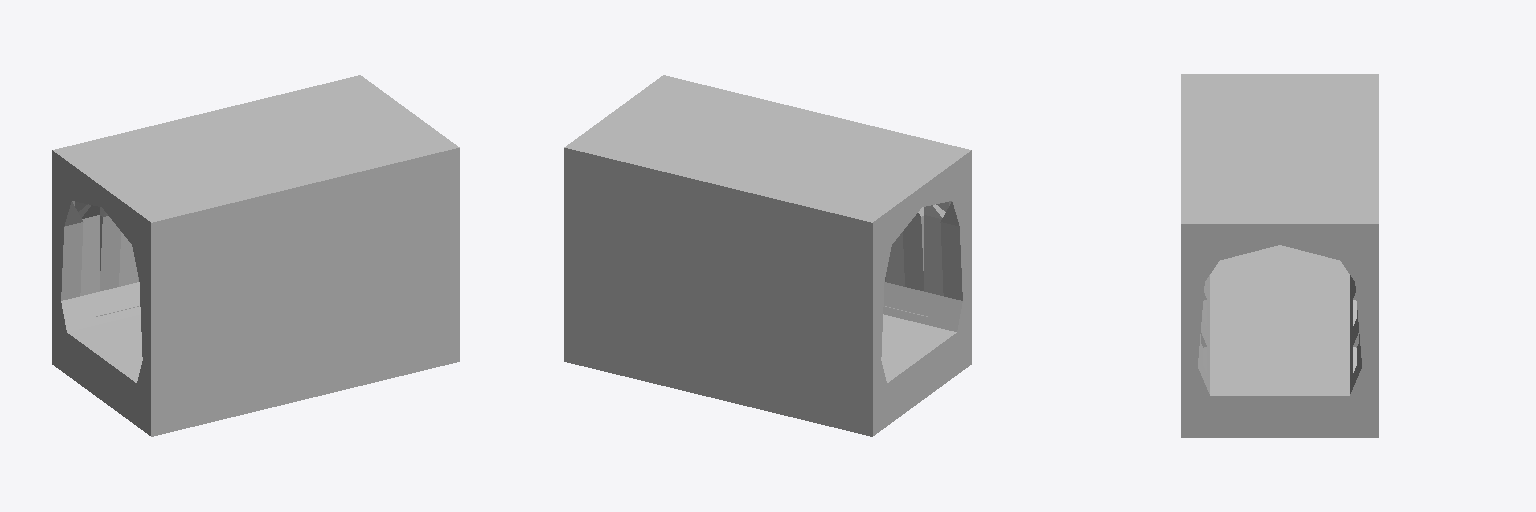
The model's file is Corridor (Fixed).obj.
The picture shows the model from 3 angles: view 1: azimuth 30°, elevation 25°; view 2: azimuth 150°, elevation 25°; view 3: azimuth 270°, elevation 25°; orthographic projection.
Parts seen in each view (by area): view 1: SketchUp.043_ID273, SketchUp.050_ID315, SketchUp.027_ID177, SketchUp.009_ID65, SketchUp.040_ID255, SketchUp.021_ID141, SketchUp.015_ID103, SketchUp.014_ID97; view 2: SketchUp.043_ID273, SketchUp.050_ID315, SketchUp.036_ID231, SketchUp.005_ID39, SketchUp.046_ID291, SketchUp.059_ID373, SketchUp.028_ID183, SketchUp.004_ID31; view 3: SketchUp.043_ID273, SketchUp.050_ID315, SketchUp.019_ID127, SketchUp.009_ID65, SketchUp.005_ID39.
Boxes of the visible parts, x1=… form: SketchUp.043_ID273: x1=52, y1=75, x2=459, y2=436; SketchUp.050_ID315: x1=67, y1=314, x2=142, y2=382; SketchUp.027_ID177: x1=61, y1=201, x2=90, y2=300; SketchUp.009_ID65: x1=61, y1=282, x2=140, y2=331; SketchUp.040_ID255: x1=100, y1=207, x2=120, y2=290; SketchUp.021_ID141: x1=80, y1=215, x2=99, y2=295; SketchUp.015_ID103: x1=92, y1=290, x2=139, y2=316; SketchUp.014_ID97: x1=119, y1=232, x2=137, y2=286; SketchUp.043_ID273: x1=564, y1=75, x2=971, y2=436; SketchUp.050_ID315: x1=881, y1=314, x2=956, y2=382; SketchUp.036_ID231: x1=933, y1=201, x2=962, y2=300; SketchUp.005_ID39: x1=883, y1=282, x2=962, y2=331; SketchUp.046_ID291: x1=903, y1=207, x2=923, y2=290; SketchUp.059_ID373: x1=924, y1=215, x2=943, y2=295; SketchUp.028_ID183: x1=884, y1=290, x2=931, y2=316; SketchUp.004_ID31: x1=886, y1=232, x2=904, y2=286; SketchUp.043_ID273: x1=1181, y1=74, x2=1378, y2=437; SketchUp.050_ID315: x1=1210, y1=245, x2=1349, y2=395; SketchUp.019_ID127: x1=1245, y1=283, x2=1314, y2=376; SketchUp.009_ID65: x1=1350, y1=275, x2=1361, y2=393; SketchUp.005_ID39: x1=1198, y1=275, x2=1209, y2=393.
Bounding box in the file's own units: 8.4 × 5.58 × 4.68.